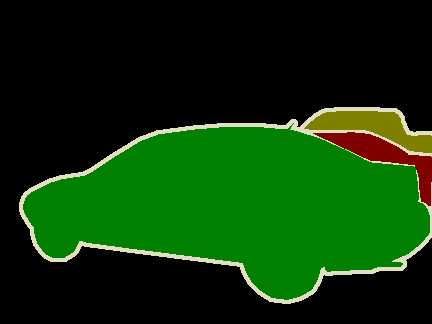car: (18, 126, 432, 303), (306, 133, 432, 205), (301, 108, 432, 157)
